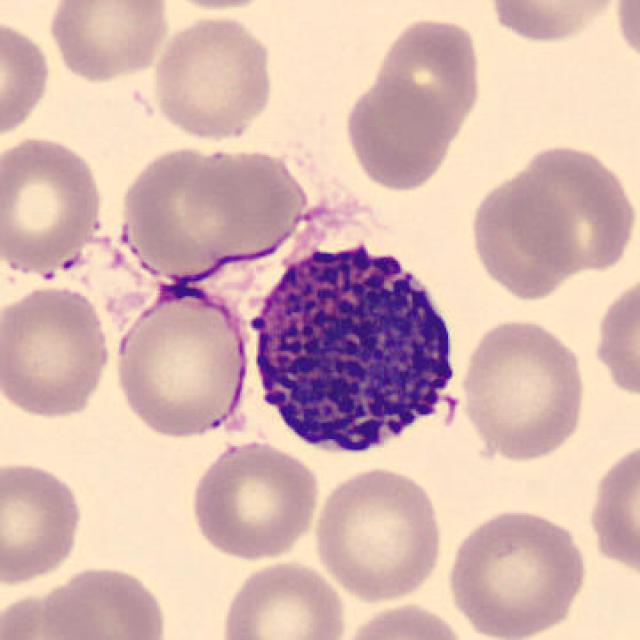Basophil: (240, 218, 471, 471)
RBC: (114, 141, 292, 279), (109, 284, 252, 442), (443, 502, 592, 640), (455, 314, 590, 464), (309, 464, 446, 604), (505, 139, 636, 277), (148, 12, 278, 143), (186, 438, 322, 562), (0, 280, 114, 422), (0, 130, 107, 278), (464, 171, 578, 302), (372, 12, 486, 141), (341, 74, 455, 194), (0, 457, 87, 587), (44, 0, 172, 85), (217, 557, 348, 640), (39, 562, 171, 640), (585, 434, 638, 582), (0, 12, 53, 142), (482, 0, 626, 46), (593, 280, 640, 402), (0, 587, 108, 640), (334, 599, 471, 640), (610, 0, 640, 72), (153, 0, 281, 12)
